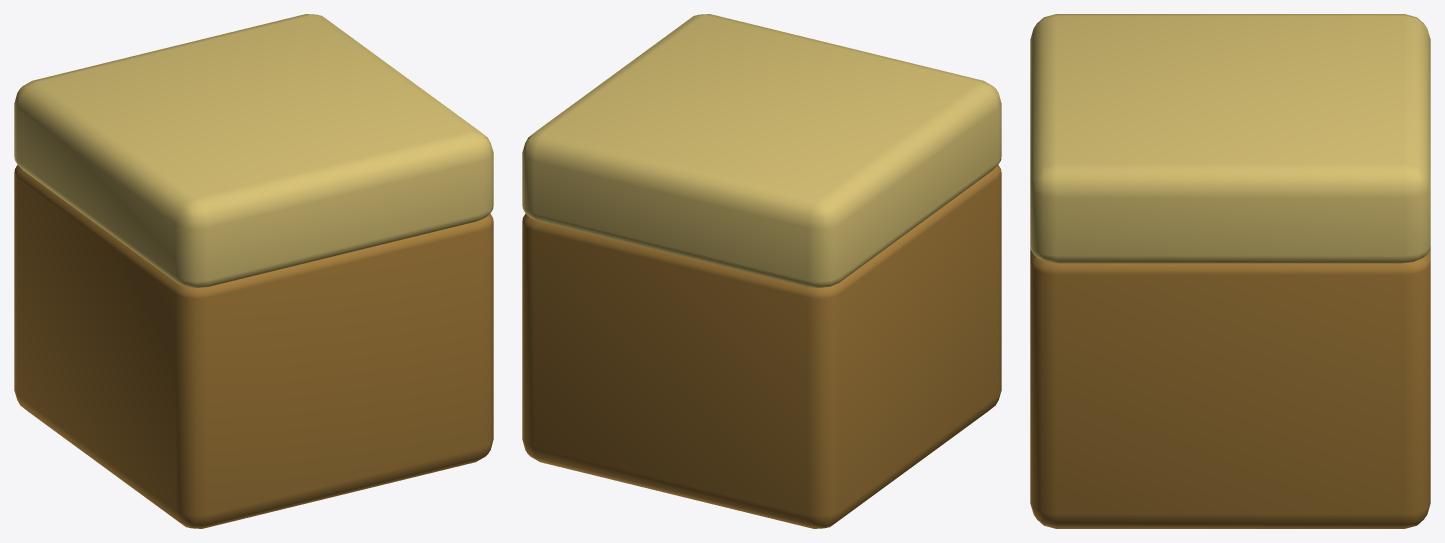
The model's file is square_tile.fbx.
3 views of the same model, side by side, from view 1: azimuth 30°, elevation 25°; view 2: azimuth 150°, elevation 25°; view 3: azimuth 270°, elevation 25° (orthographic). The views are drawn at different scales.
Visible parts, largest first — view 1: square_tile; view 2: square_tile; view 3: square_tile.
Part boxes in pixels (x1=…): square_tile: x1=14, y1=14, x2=493, y2=528; square_tile: x1=522, y1=14, x2=1001, y2=528; square_tile: x1=1030, y1=14, x2=1430, y2=528.
Size of the model in its own units: 200 by 200 by 200.
